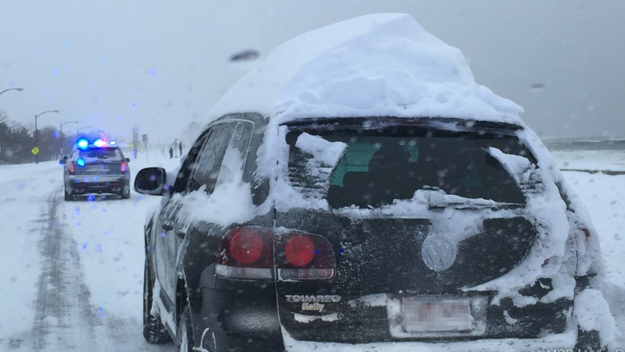car: (136, 113, 604, 351), (59, 139, 133, 202)
